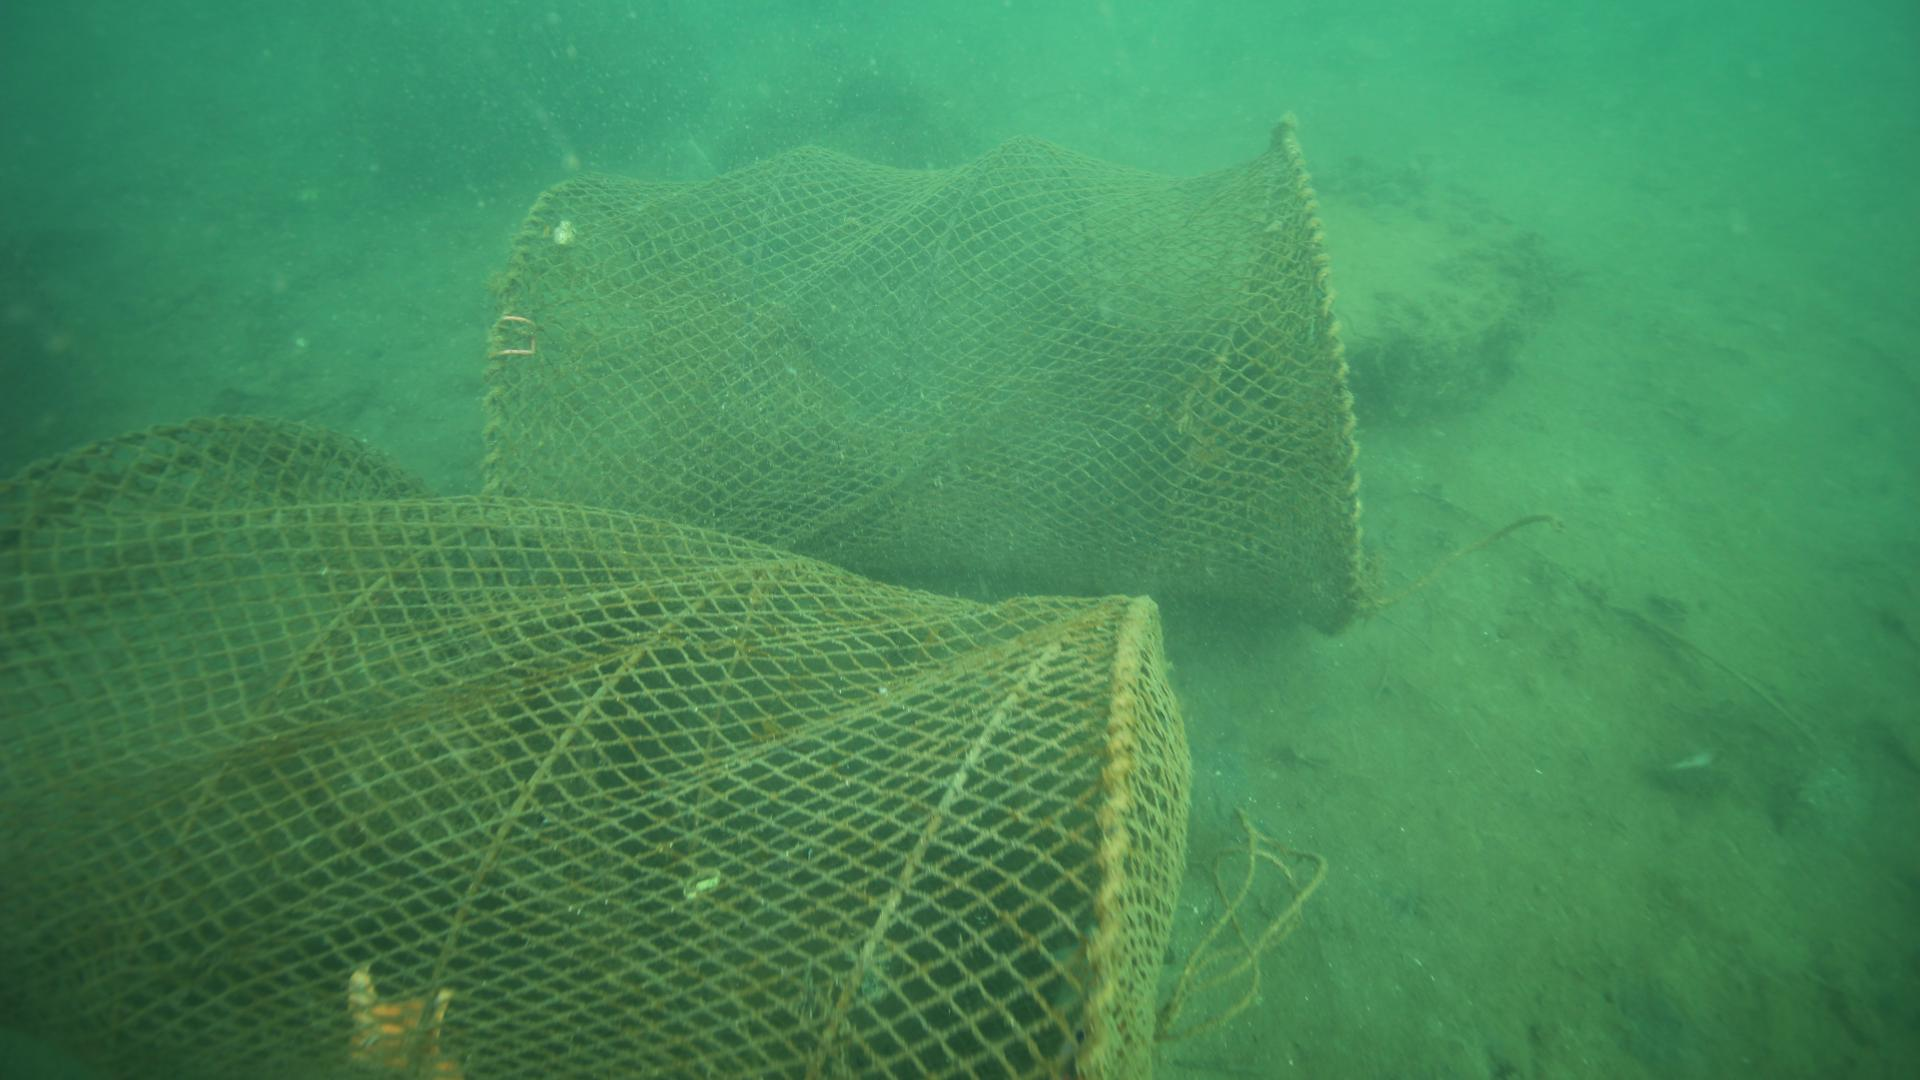bundle of ropes: (1153, 802, 1325, 1039)
spring fish trap: (0, 415, 1193, 1080), (475, 112, 1370, 636)
